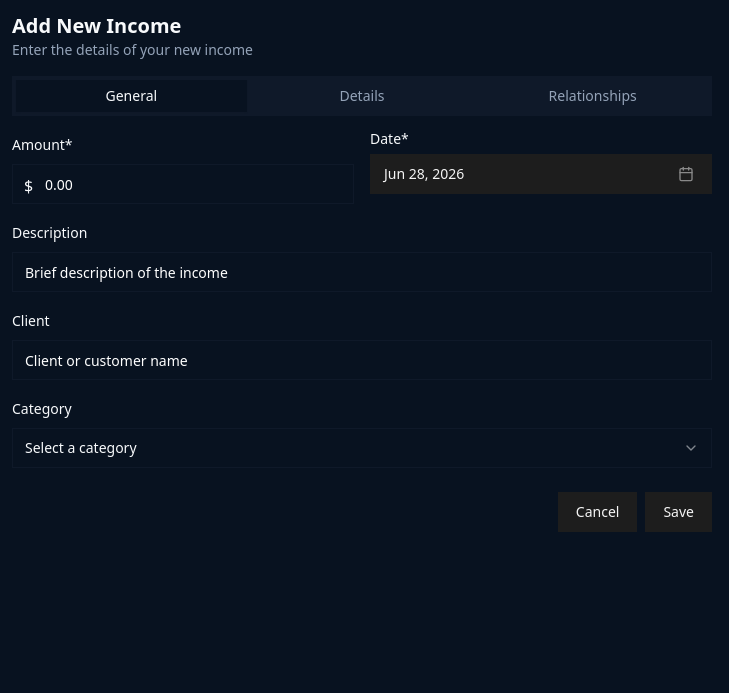
IncomeForm – selecting a booking auto-fills the client field › fills the client field with customerName when the booking has one
The image size is (729, 693).
Expected: the field with placeholder "Client or customer name" is empty, x1=12 y1=340 x2=712 y2=380
Click the tab "Relationships" at (593, 96), box x1=477 y1=80 x2=708 y2=112
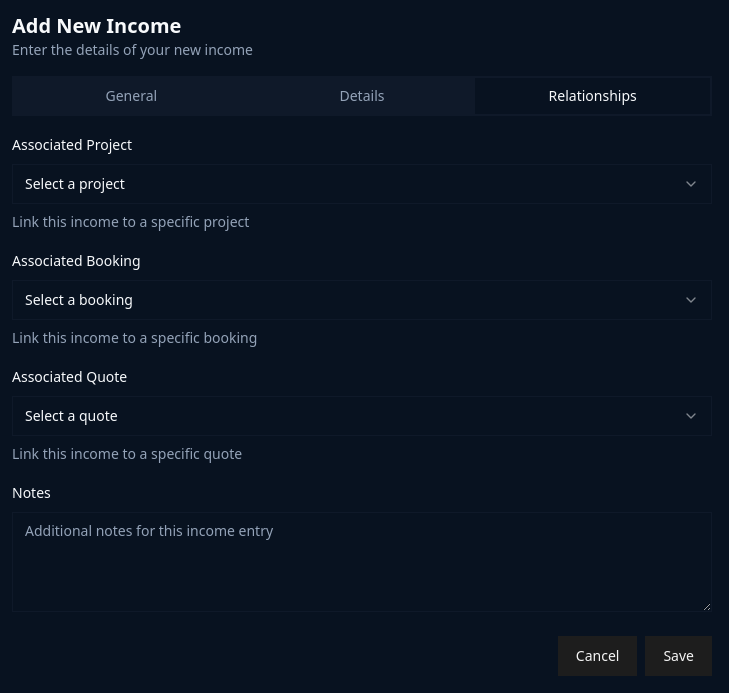
Click the dropdown labelled "Select a booking" at (79, 300), box x1=12 y1=280 x2=712 y2=320
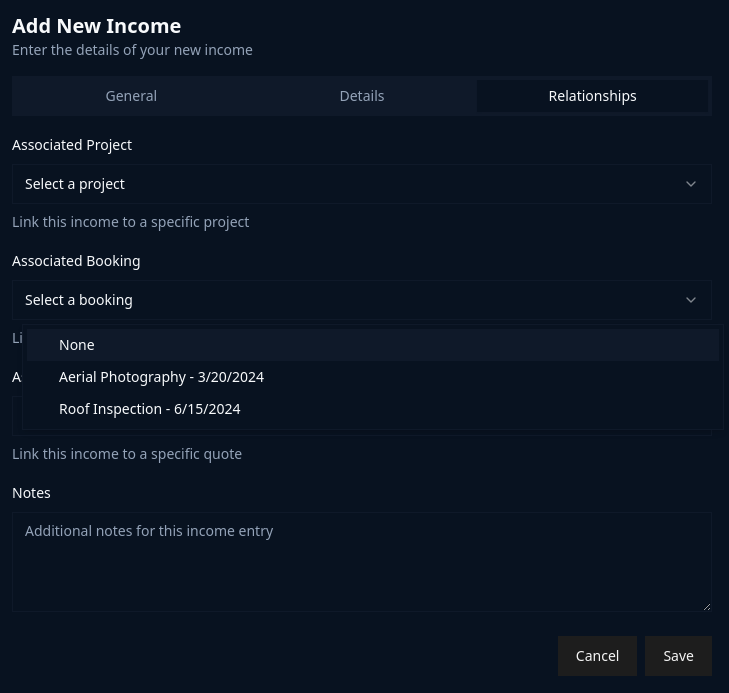
Click the option "Aerial Photography - 3/20/2024" at (162, 376), box x1=59 y1=367 x2=264 y2=386
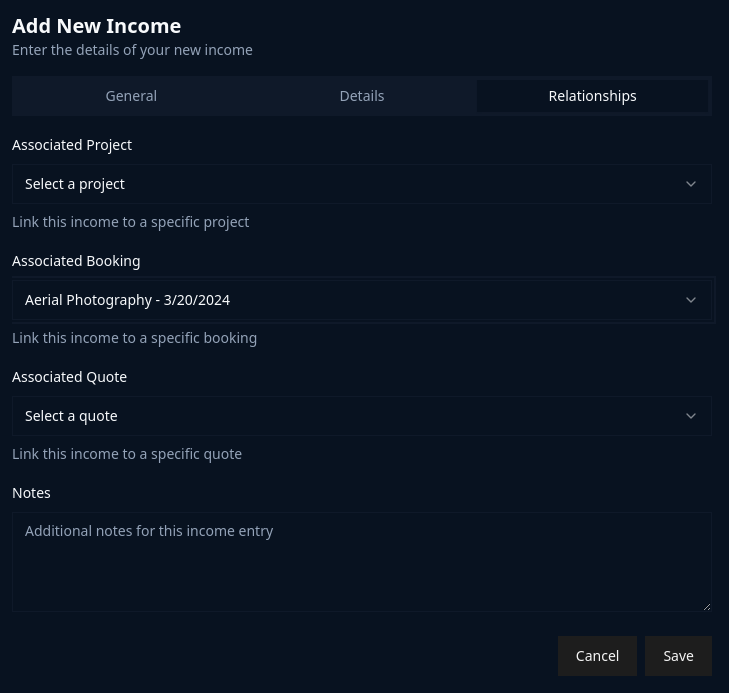
Click the tab "General" at (131, 96), box x1=16 y1=80 x2=247 y2=112
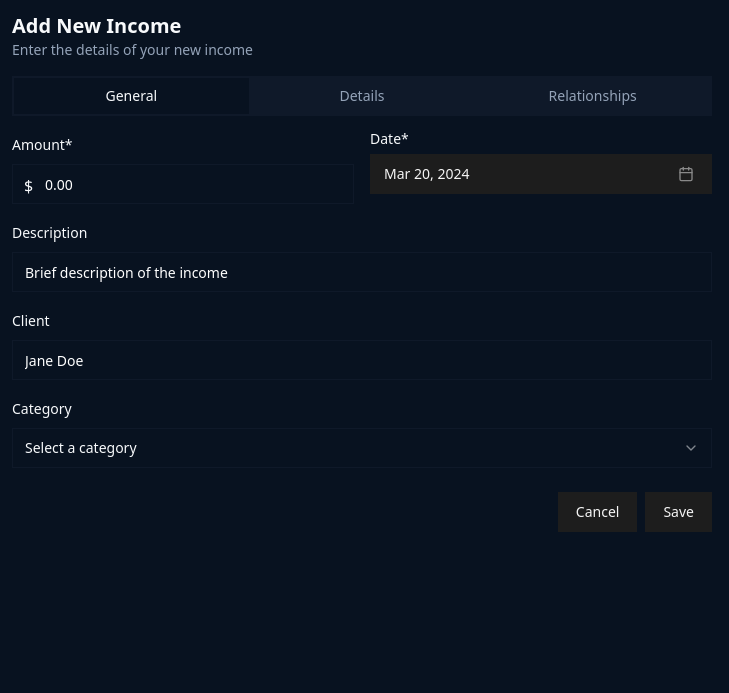
Expected: the field with placeholder "Client or customer name" holds "Jane Doe", x1=12 y1=340 x2=712 y2=380
